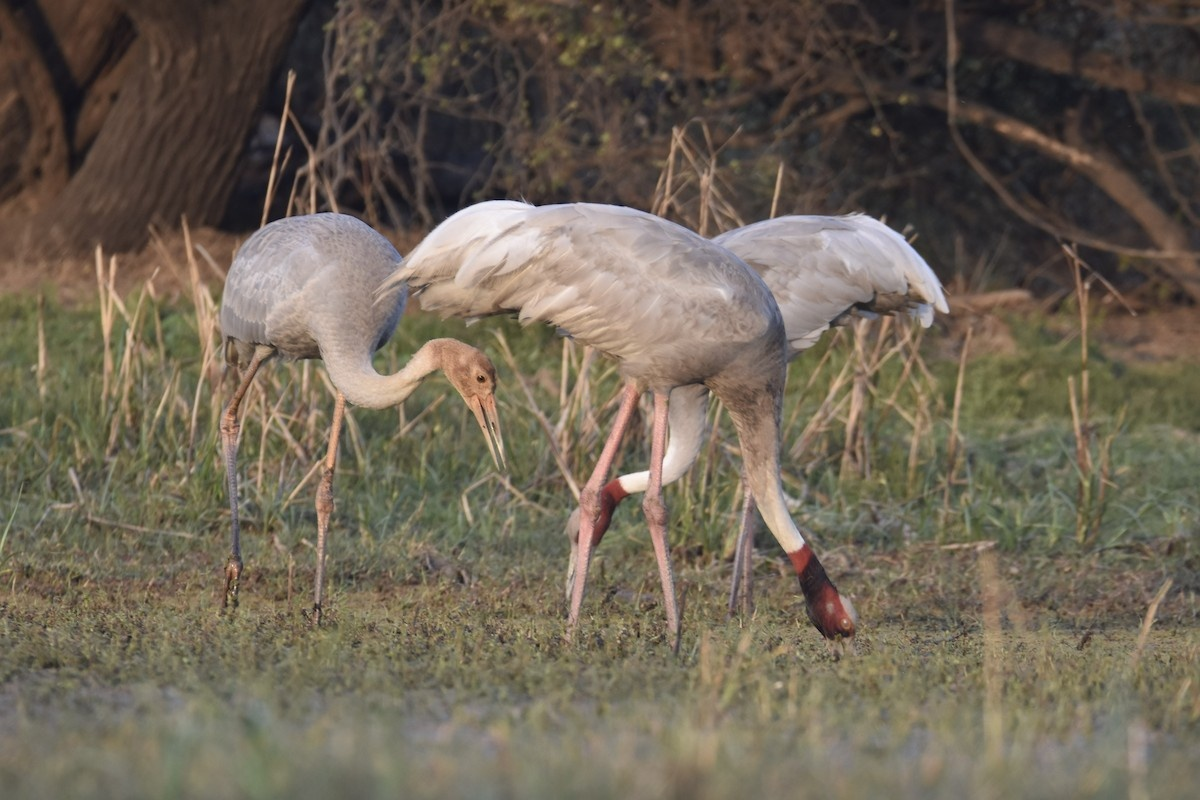crane: (431, 191, 899, 695), (209, 207, 510, 613)
